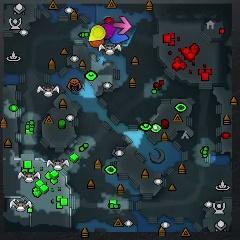p1: (109, 29, 129, 43)
p3: (100, 23, 116, 39)
p4: (88, 25, 105, 41)
p5: (89, 40, 105, 48)
x1: (115, 16, 131, 34)
